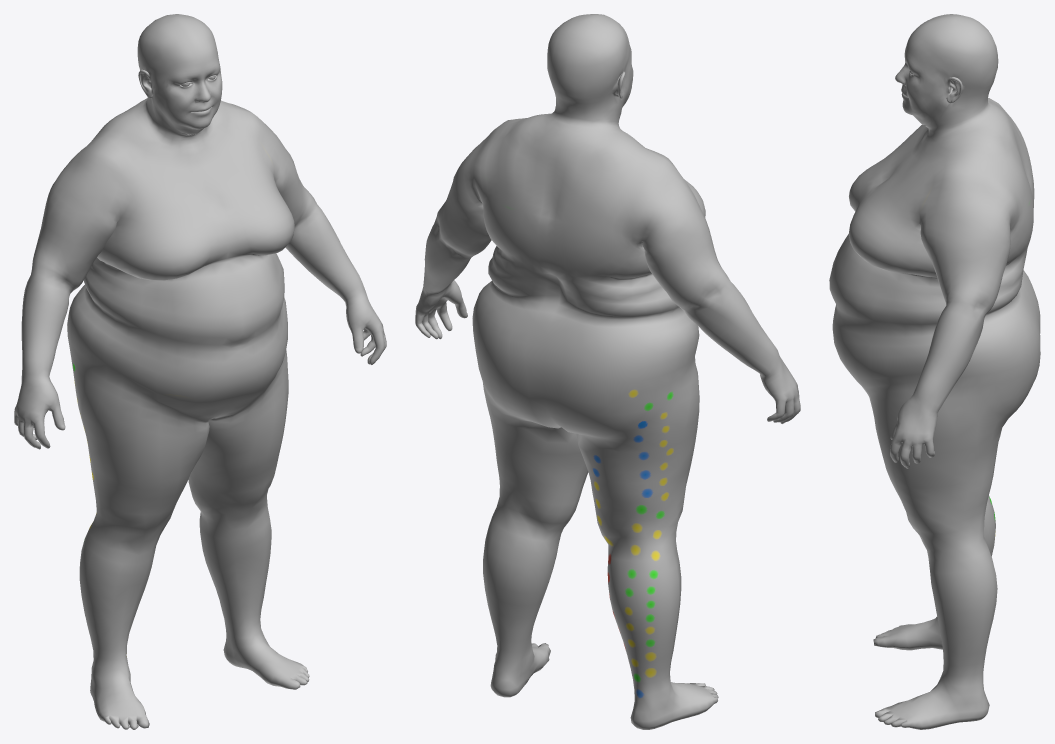
The model's file is 1135032-hipflex-all.gltf.
The picture shows the model from 3 angles, left to right: view 1: azimuth 30°, elevation 25°; view 2: azimuth 150°, elevation 25°; view 3: azimuth 270°, elevation 25°; orthographic projection. The views are drawn at different scales.
Visible parts, largest first — view 1: Female 63in 275lbs; view 2: Female 63in 275lbs; view 3: Female 63in 275lbs.
Part boxes in pixels (x1,y1,x2,y2): Female 63in 275lbs: (14,14,386,729); Female 63in 275lbs: (415,14,800,729); Female 63in 275lbs: (829,14,1040,729).
Size of the model in its own units: 2.74 by 4.81 by 1.38.
Materials: 1 (1 with a texture image).
